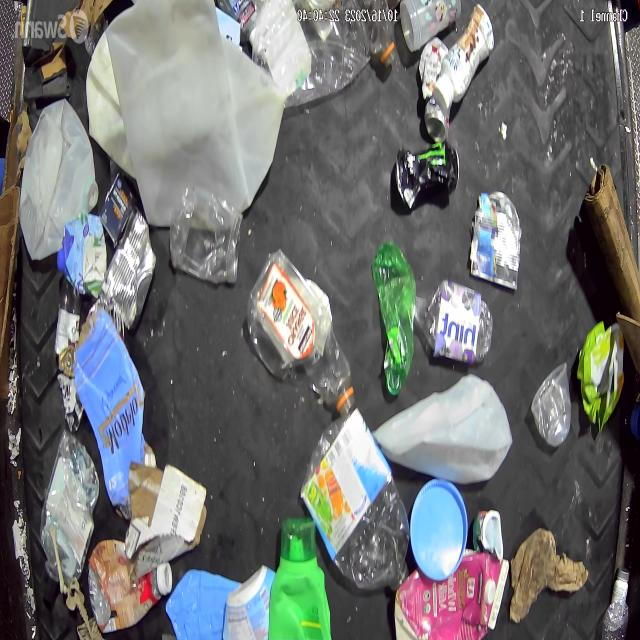can: (99, 206, 156, 332), (468, 190, 522, 292), (394, 138, 460, 212), (418, 37, 453, 144), (58, 345, 84, 431)
milk_jug: (374, 375, 515, 484), (20, 98, 98, 261)
non_white_jug: (75, 313, 147, 521), (394, 549, 509, 640), (272, 520, 332, 640)
plastic_bottle: (302, 414, 406, 596), (248, 251, 358, 417), (41, 427, 99, 588), (417, 278, 494, 364), (372, 242, 415, 394), (348, 0, 396, 69), (601, 600, 629, 640)
